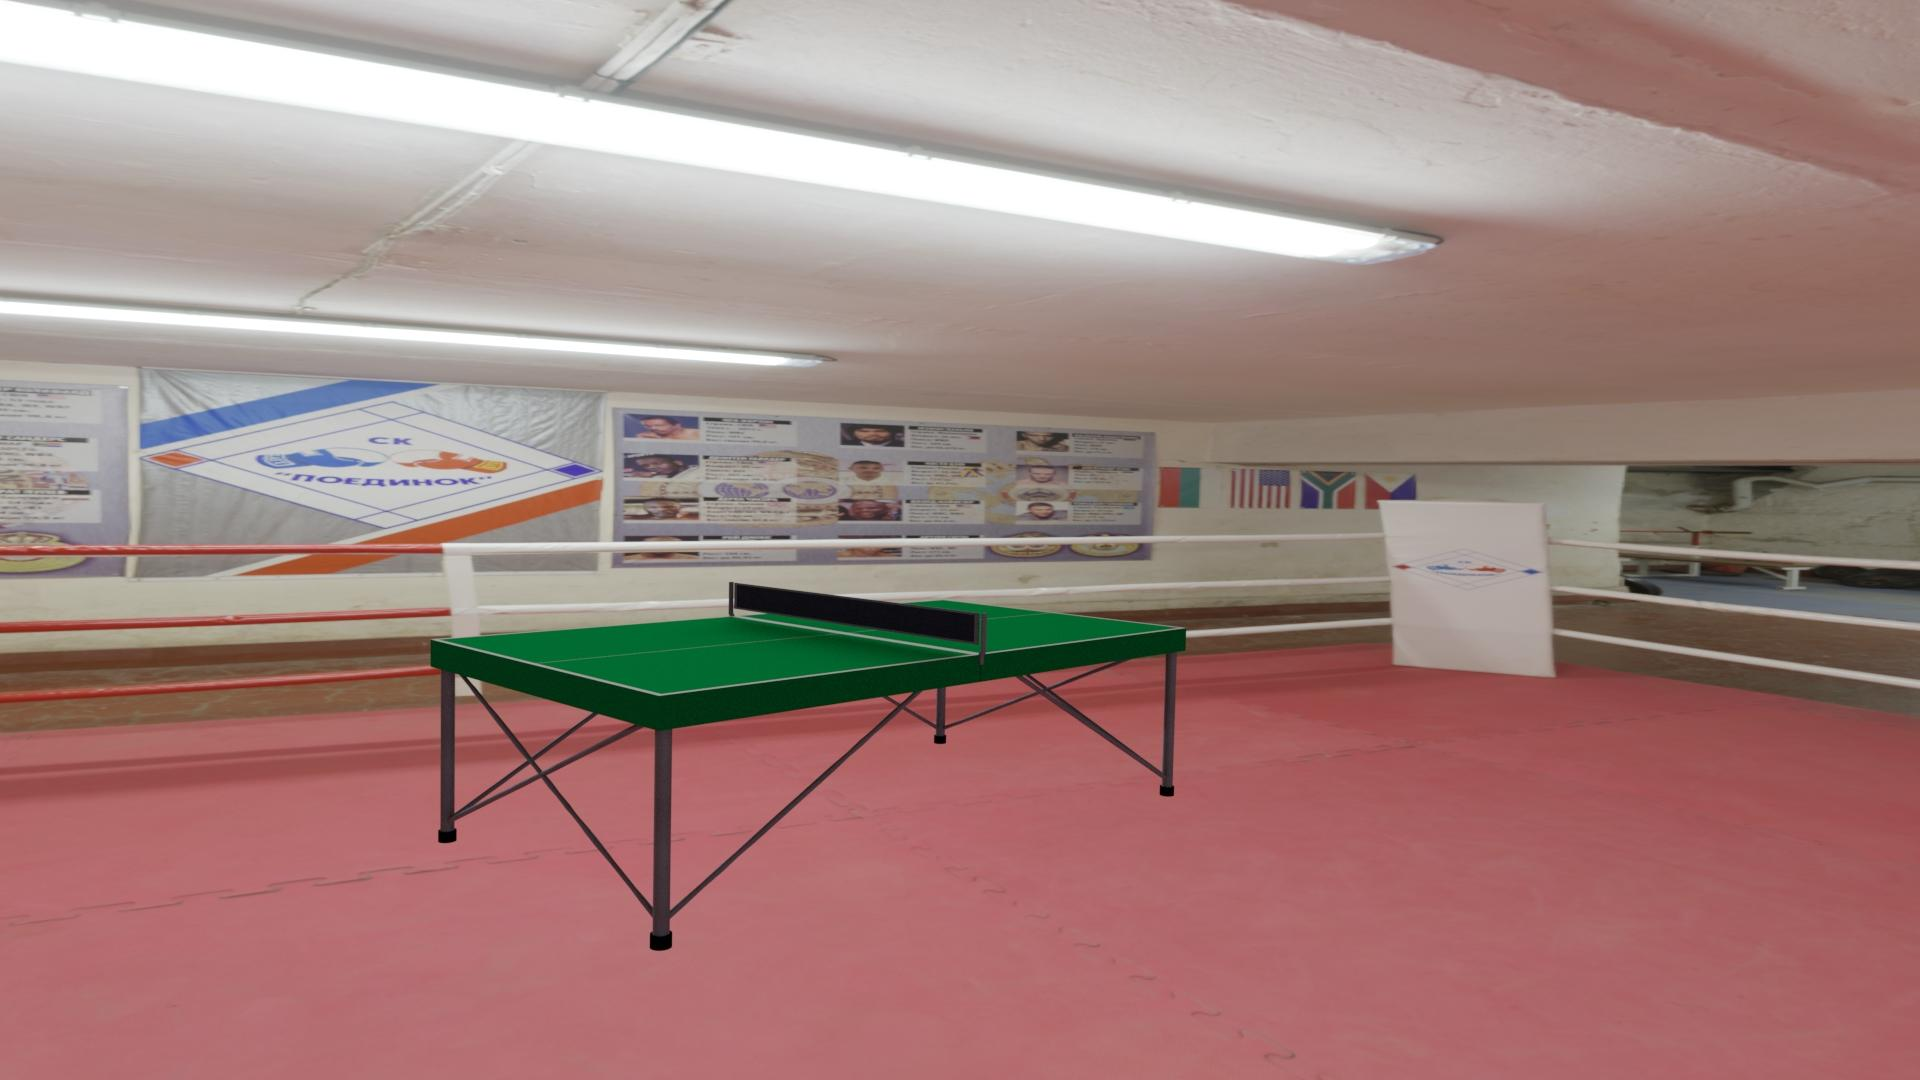table: (438, 600, 1180, 694)
